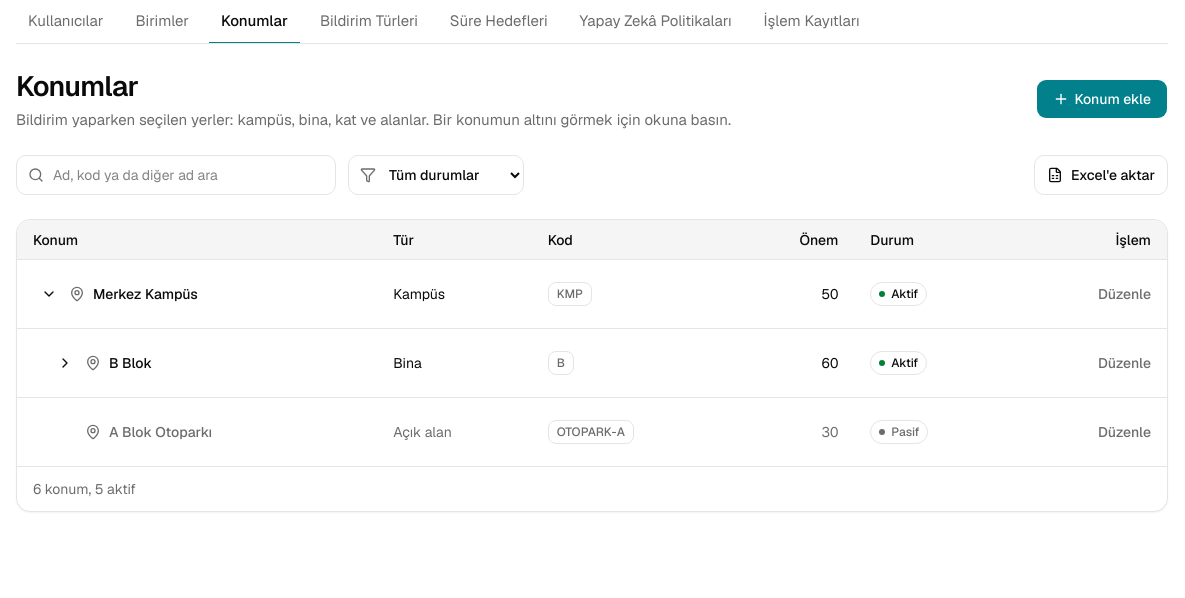
it: LocationsScreen › opens and closes a branch
Click the button named "B Blok altını aç": coordinates (65, 363) [49, 347, 81, 379]
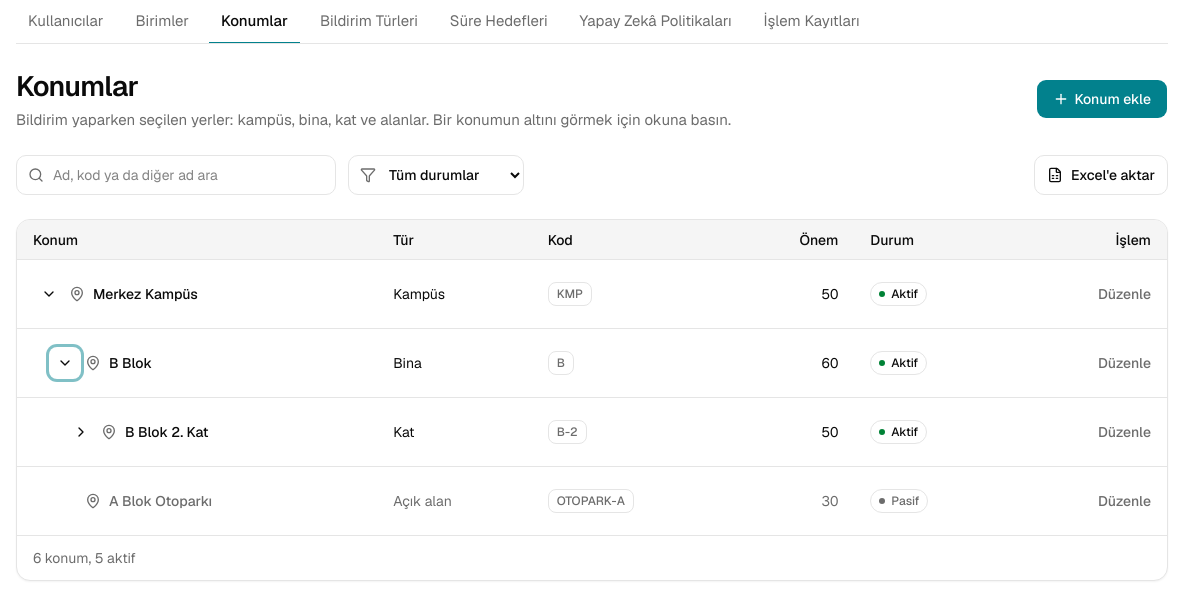
expect the row "B Blok 2. Kat" is shown: met, box [17, 398, 1167, 467]
Click the button named "B Blok altını kapat": coordinates (65, 363) [49, 347, 81, 379]
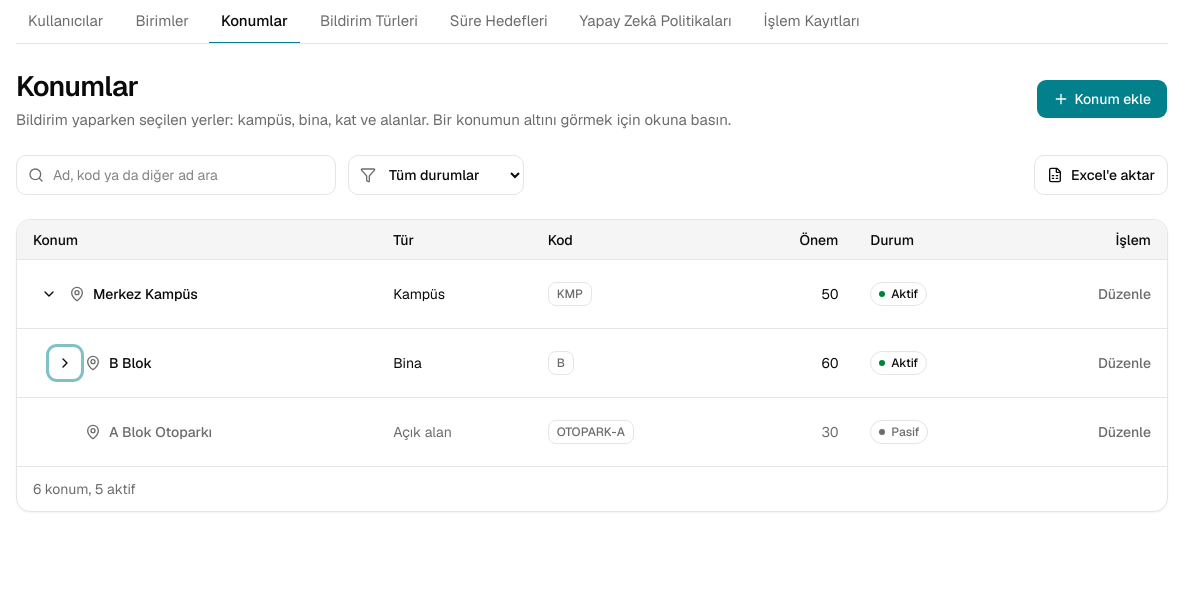
expect the text "B Blok 2. Kat" is gone: met
